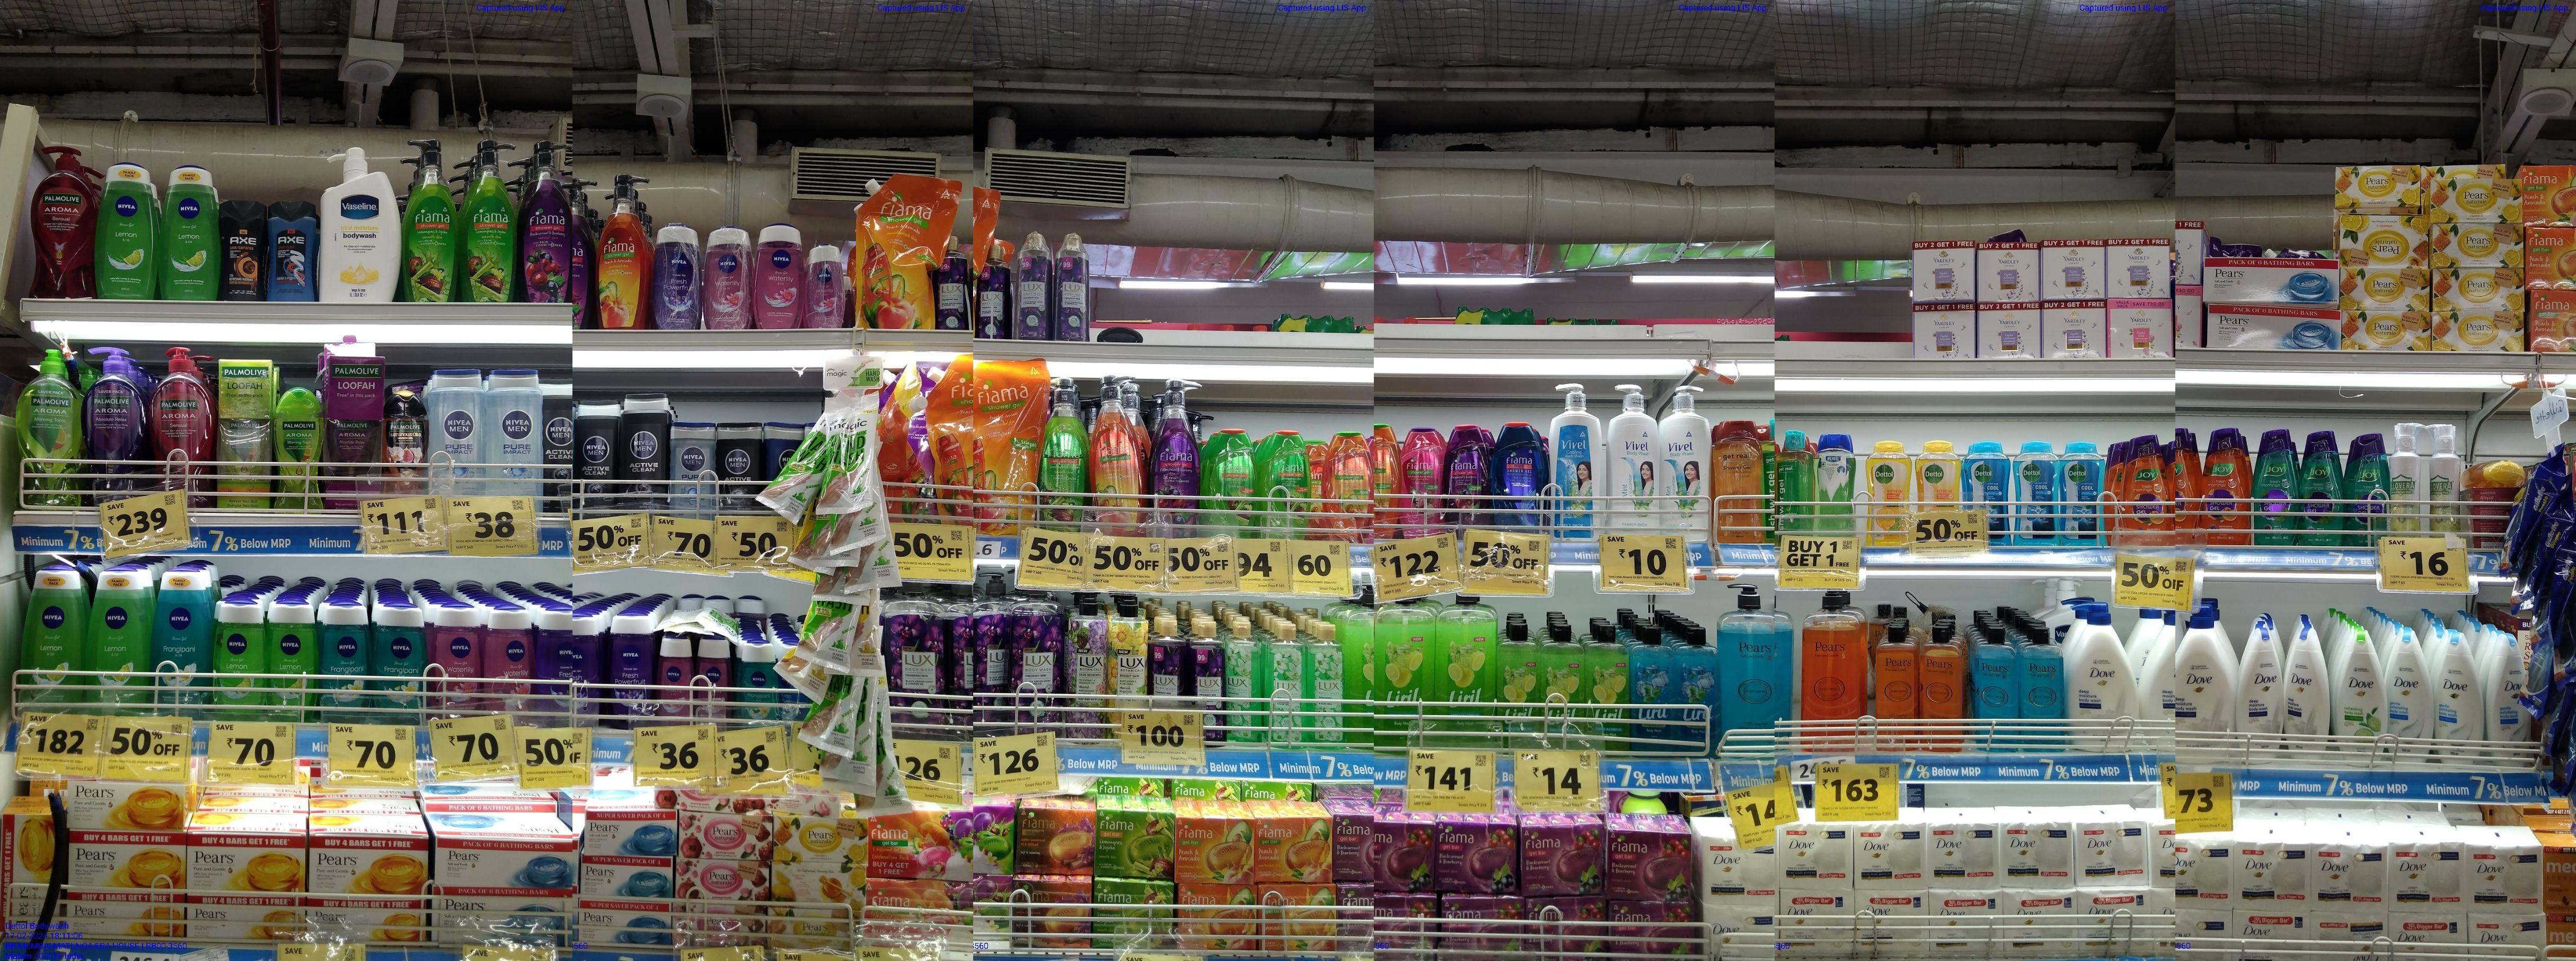Dettol_Bodywash_Cool: (2012, 440, 2060, 549), (1966, 440, 2011, 550), (2063, 442, 2103, 549)
Dettol_Bodywash_Refresh: (1866, 442, 1911, 547), (1916, 440, 1960, 514)
Dove_Deep_Moisture_Body_Wash_250ML: (2236, 626, 2285, 764), (2285, 624, 2328, 762)
Dove_Gentle_Exfoliating_Body_Wash_250ML: (2484, 629, 2533, 766), (2435, 631, 2484, 766), (2387, 629, 2435, 766)
Dove_Refreshing_Body_Wash_250ML: (2330, 624, 2387, 769)
Fiama_Shower_Gel_Lemongrass_and_Jojoba_250ML: (1201, 427, 1255, 537), (1262, 432, 1309, 544)
Fiama_Shower_Gel_Patchouli_and_Macadamia_250ML: (1403, 429, 1441, 537)
Fiama_Shower_Gel_Peach_and_Avocado_250ML: (1322, 430, 1373, 542)
Get_Real_Shower_Gel_Moisturising_Glycerin_300ML: (1713, 424, 1764, 542)
Joy_Shower_Gel_Mandarin_and_Lemongrass_250ML: (2203, 427, 2247, 545), (2126, 434, 2169, 547)
Joy_Shower_Gel_Mint_and_Eucalyptus_250ML: (2300, 429, 2346, 542), (2349, 432, 2394, 544), (2256, 430, 2295, 547)
Liril_Cooling_Mint_Body_Wash_250ML: (1674, 624, 1718, 754), (1630, 624, 1674, 752)
Liril_Lime_and_Tea_Tree_Oil_Body_Wash_250ML: (1585, 619, 1628, 752), (1539, 618, 1585, 736), (1500, 618, 1539, 738)
Lux_Black_Orchid_Scent_and_Juniper_Oil_Body_Wash_245ML: (1184, 618, 1226, 743), (1051, 237, 1088, 345), (1017, 232, 1048, 343), (977, 245, 1010, 337), (1150, 611, 1183, 703), (936, 238, 968, 330)
Lux_Body_Wash_Skin_Detox_Freesia_Scent_and_Alove_Vera_245ML: (1304, 618, 1344, 749), (1263, 619, 1303, 743), (1226, 618, 1262, 744)
Nivea_Shower_Gel_Frangipani_and_Oil_250ML: (154, 565, 209, 710), (320, 600, 368, 721), (375, 605, 422, 723)
Nivea_Shower_Gel_Fresh_Powerfruit_250ML: (651, 222, 700, 330), (609, 613, 647, 726)
Nivea_Shower_Gel_Lemon_and_Oil_250ML: (87, 568, 151, 713), (21, 567, 84, 713), (95, 164, 156, 302), (163, 161, 222, 297), (214, 601, 266, 723), (268, 600, 317, 720)
Nivea_Shower_Gel_Waterlily_and_Oil_250ML: (429, 600, 478, 718), (481, 605, 532, 713), (754, 218, 802, 329), (705, 228, 751, 327)
Palmolive_Aroma_Morning_Tonic_Shower_Gel_250ML: (274, 386, 324, 508)
Palmolive_Luminous_Oils_With_White_Orchid_Shower_Gel_250ML: (383, 384, 427, 493)
